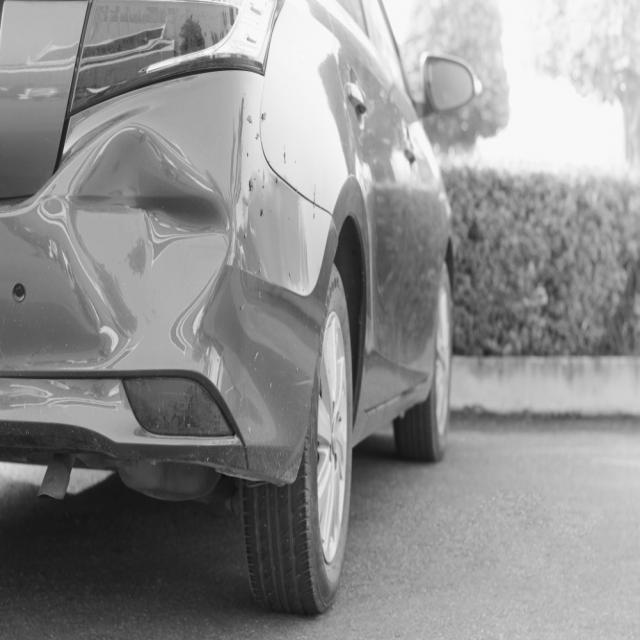dent: (58, 116, 243, 352)
